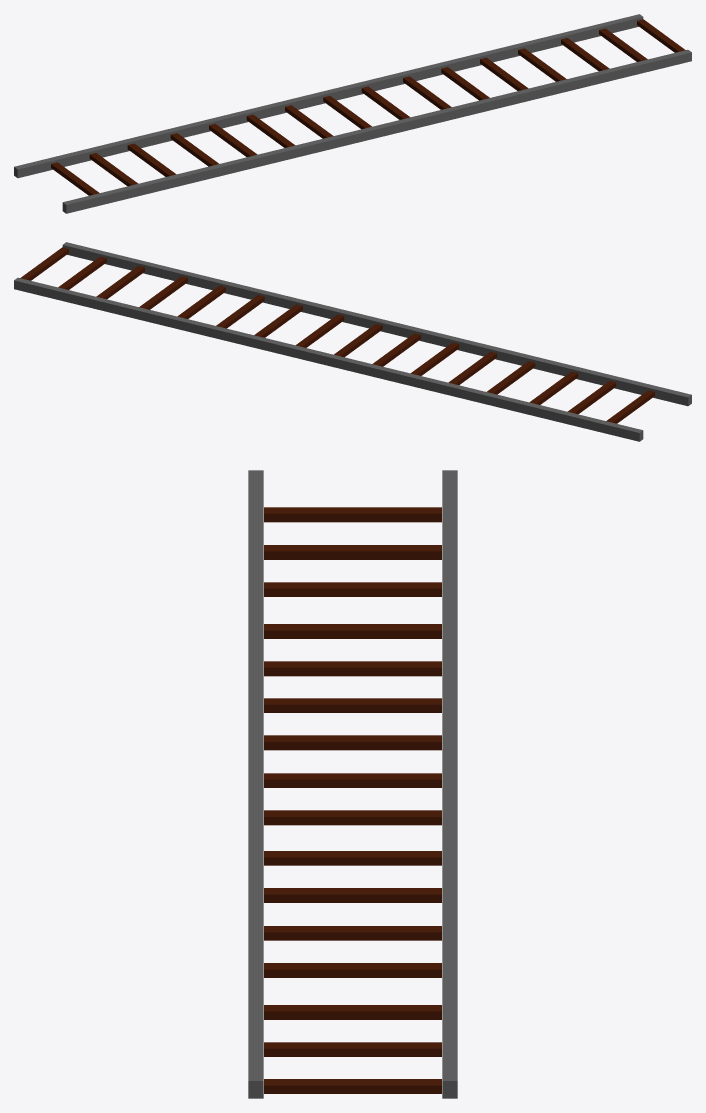
Rendered from StraightRail.fbx.
3 renders of one model, top to bottom at view 1: azimuth 30°, elevation 25°; view 2: azimuth 150°, elevation 25°; view 3: azimuth 270°, elevation 25°, orthographic. The views are drawn at different scales.
Visible parts, largest first — view 1: Metal Rail 2.001, Metal Rail 2, Railbar 15, Railbar 16, Railbar 13, Railbar 8, RailBar 1, Railbar 14, Railbar 11, Railbar 7, Railbar 12, Railbar 3 (+6 smaller); view 2: Metal Rail 2, Metal Rail 2.001, Railbar 15, Railbar 16, Railbar 13, Railbar 8, RailBar 1, Railbar 14, Railbar 11, Railbar 7, Railbar 12, Railbar 3 (+6 smaller); view 3: Metal Rail 2, Metal Rail 2.001, Railbar 12, Railbar 14, Railbar 7, Railbar 9, RailBar 1, Railbar 10, Railbar 11, Railbar 13, Railbar 15, Railbar 16 (+6 smaller).
Part boxes in pixels (box(x1,y1,x2,y2)): Metal Rail 2.001: box(62, 49, 691, 213); Metal Rail 2: box(14, 14, 643, 178); Railbar 15: box(127, 143, 176, 176); Railbar 16: box(89, 153, 138, 186); Railbar 13: box(170, 133, 218, 166); Railbar 8: box(246, 114, 295, 147); RailBar 1: box(637, 19, 685, 52); Railbar 14: box(51, 162, 99, 195); Railbar 11: box(599, 28, 647, 61); Railbar 7: box(361, 86, 409, 119); Railbar 12: box(209, 123, 257, 156); Railbar 3: box(518, 48, 566, 81); Metal Rail 2: box(14, 277, 643, 441); Metal Rail 2.001: box(62, 242, 691, 406); Railbar 15: box(529, 371, 578, 404); Railbar 16: box(567, 381, 616, 414); Railbar 13: box(487, 361, 535, 394); Railbar 8: box(410, 342, 459, 375); RailBar 1: box(20, 247, 68, 280); Railbar 14: box(606, 390, 654, 423); Railbar 11: box(58, 256, 106, 289); Railbar 7: box(296, 314, 344, 347); Railbar 12: box(448, 351, 496, 384); Railbar 3: box(139, 276, 187, 309); Metal Rail 2: box(442, 470, 457, 1098); Metal Rail 2.001: box(248, 470, 263, 1098); Railbar 12: box(264, 661, 441, 676); Railbar 14: box(264, 507, 441, 522); Railbar 7: box(264, 810, 441, 825); Railbar 9: box(264, 735, 441, 750); RailBar 1: box(264, 1079, 441, 1093); Railbar 10: box(264, 1005, 441, 1019); Railbar 11: box(264, 1042, 441, 1056); Railbar 13: box(264, 624, 441, 638); Railbar 15: box(264, 582, 441, 596); Railbar 16: box(264, 545, 441, 559).
Size of the model in its own units: 3204 by 43.13 by 464.
